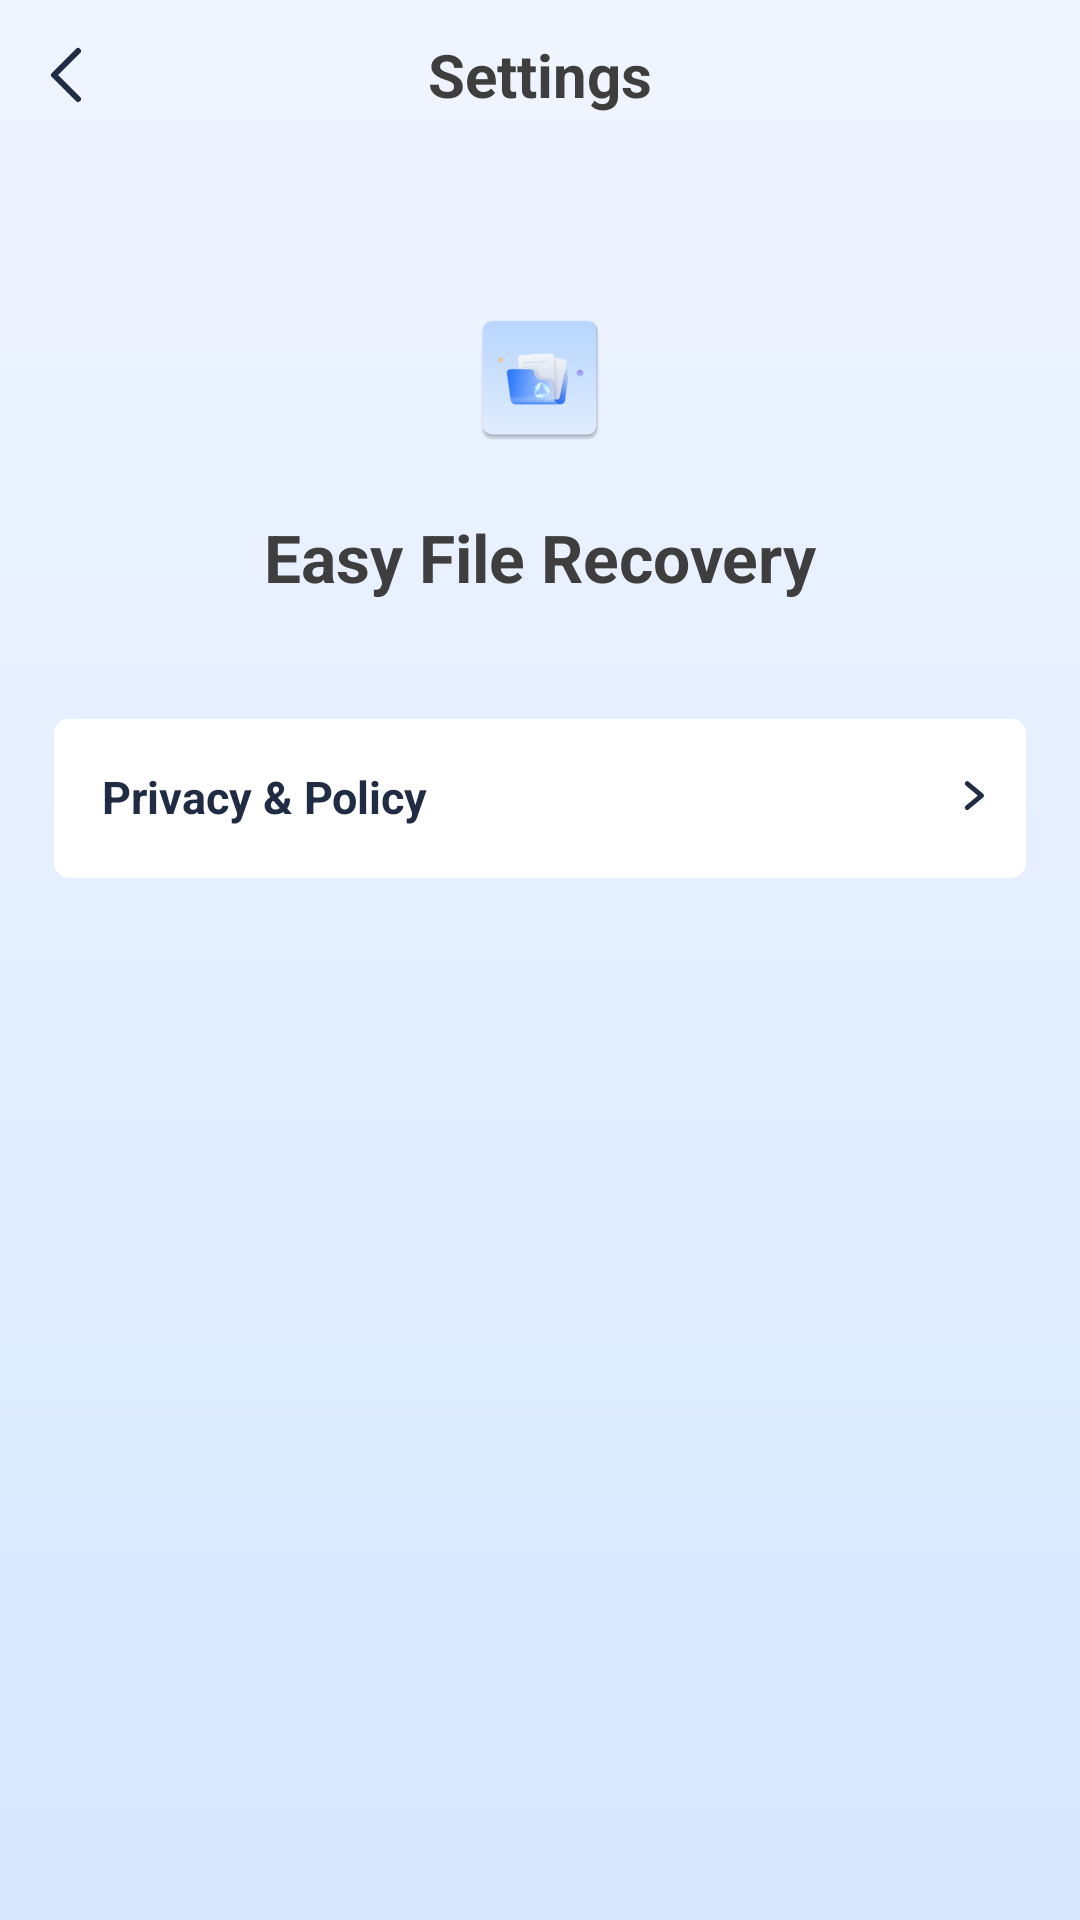

Point at icon controls on the screen. Image size 1080w x 1920h, points as (x,y).
back: (66,74)
set more: (974,795)
